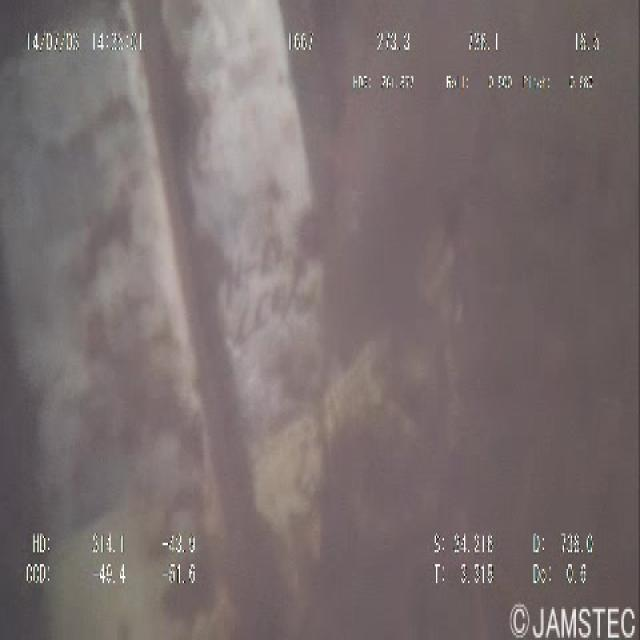plastic: (3, 9, 436, 633)
